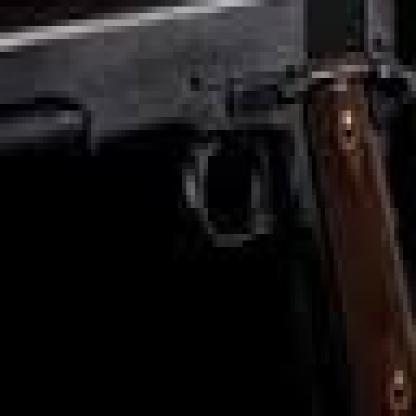gun: (0, 0, 412, 410)
